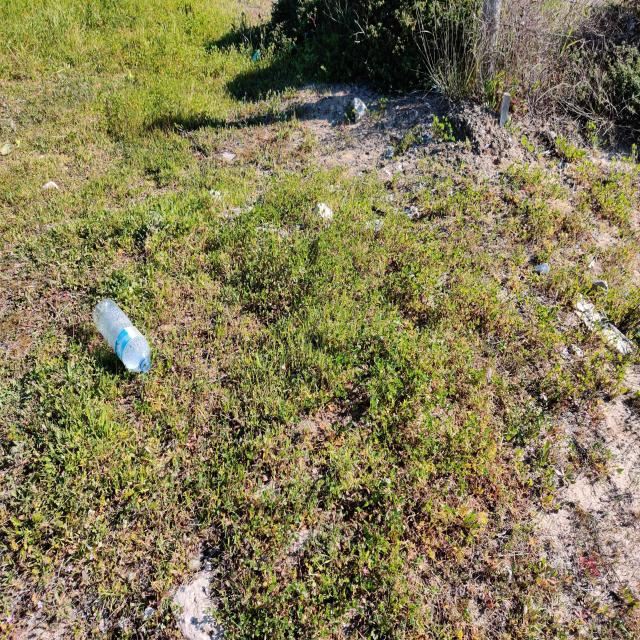litter: (93, 300, 153, 373)
